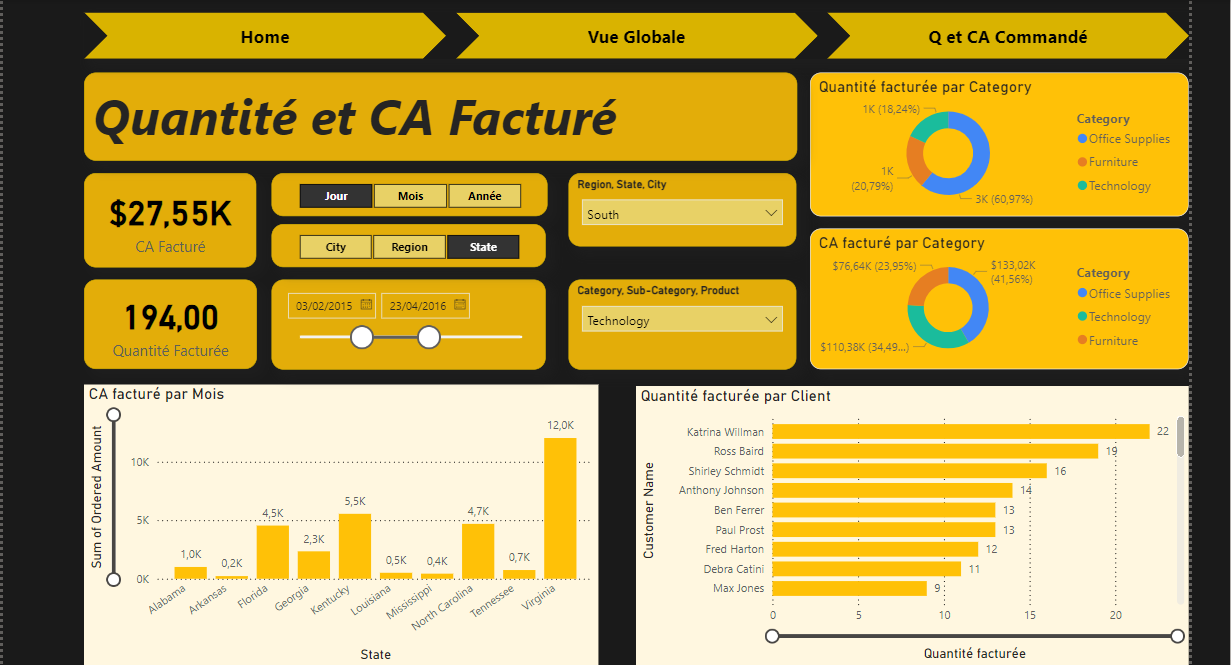

The page's visual inventory and layout, read from the dashboard file:
{"tool":"powerbi","page":{"name":"Q et CA Facturé","canvas":[1280,720],"ordinal":3},"visuals":[{"type":"card","fields":{"Values":["Mesures.CA Facturé"]},"box":[87.4,187.8,186.2,102],"z":0},{"type":"card","fields":{"Values":["Mesures.Quantité Facturée"]},"box":[86.7,303.3,186.7,96.7],"z":1000},{"type":"clusteredColumnChart","title":"CA facturé par Mois","fields":{"Category":["Sales_DATA.State","Calendar.Date"],"Y":["Sales_DATA.Ordered Amount"]},"box":[86.7,416.7,555,303.3],"z":2000},{"type":"slicer","fields":{"Values":["Paramètre_date 2.Paramètre_date"]},"box":[289.8,187.8,297.9,47],"z":3000},{"type":"barChart","title":"Quantité facturée par Client","fields":{"Category":["Sales_DATA.Customer Name"],"Y":["Sales_DATA.Quantity Ordered"]},"box":[683.3,418.3,596.7,301.7],"z":4000},{"type":"slicer","title":"Date","fields":{"Values":["Calendar.Date"]},"box":[289.8,302.8,296.3,97.2],"z":5000},{"type":"slicer","title":"Region, State, City","fields":{"Values":["Sales_DATA.Region","Sales_DATA.State","Sales_DATA.City"]},"box":[610.4,187.8,246.1,79.3],"z":6000},{"type":"donutChart","title":"Quantité facturée par Category","fields":{"Category":["Sales_DATA.Category"],"Y":["Mesures.Quantité commandé"]},"box":[871.7,80,408.3,155],"z":7000},{"type":"slicer","title":"Category, Sub-Category, Product","fields":{"Values":["Sales_DATA.Category","Sales_DATA.Sub-Category","Sales_DATA.Product Name"]},"box":[610.4,302.8,246.1,97.2],"z":8000},{"type":"donutChart","title":"CA facturé par Category","fields":{"Category":["Sales_DATA.Category"],"Y":["Mesures.CA Commandé"]},"box":[871.7,248.3,408.3,151.7],"z":9000},{"type":"textbox","box":[86.7,80,770,95],"z":10000},{"type":"pageNavigator","box":[86.7,15,1193.3,50],"z":11000},{"type":"slicer","fields":{"Values":["Paramètre.Paramètre"]},"box":[289.8,242.9,296.3,47],"z":12000}]}

Visuals, with their boxes on the page's 1280x720 design canvas (x1, y1, x2, y2). These are canvas units, not pixel positions in the 1231x665 screenshot, which may show the page scaled, cropped or inside an application window:
card - Mesures.CA Facturé: bbox=(87, 188, 274, 290)
card - Mesures.Quantité Facturée: bbox=(87, 303, 273, 400)
"CA facturé par Mois" clusteredColumnChart: bbox=(87, 417, 642, 720)
slicer - Paramètre_date 2.Paramètre_date: bbox=(290, 188, 588, 235)
"Quantité facturée par Client" barChart: bbox=(683, 418, 1280, 720)
"Date" slicer: bbox=(290, 303, 586, 400)
"Region, State, City" slicer: bbox=(610, 188, 856, 267)
"Quantité facturée par Category" donutChart: bbox=(872, 80, 1280, 235)
"Category, Sub-Category, Product" slicer: bbox=(610, 303, 856, 400)
"CA facturé par Category" donutChart: bbox=(872, 248, 1280, 400)
textbox: bbox=(87, 80, 857, 175)
pageNavigator: bbox=(87, 15, 1280, 65)
slicer - Paramètre.Paramètre: bbox=(290, 243, 586, 290)
